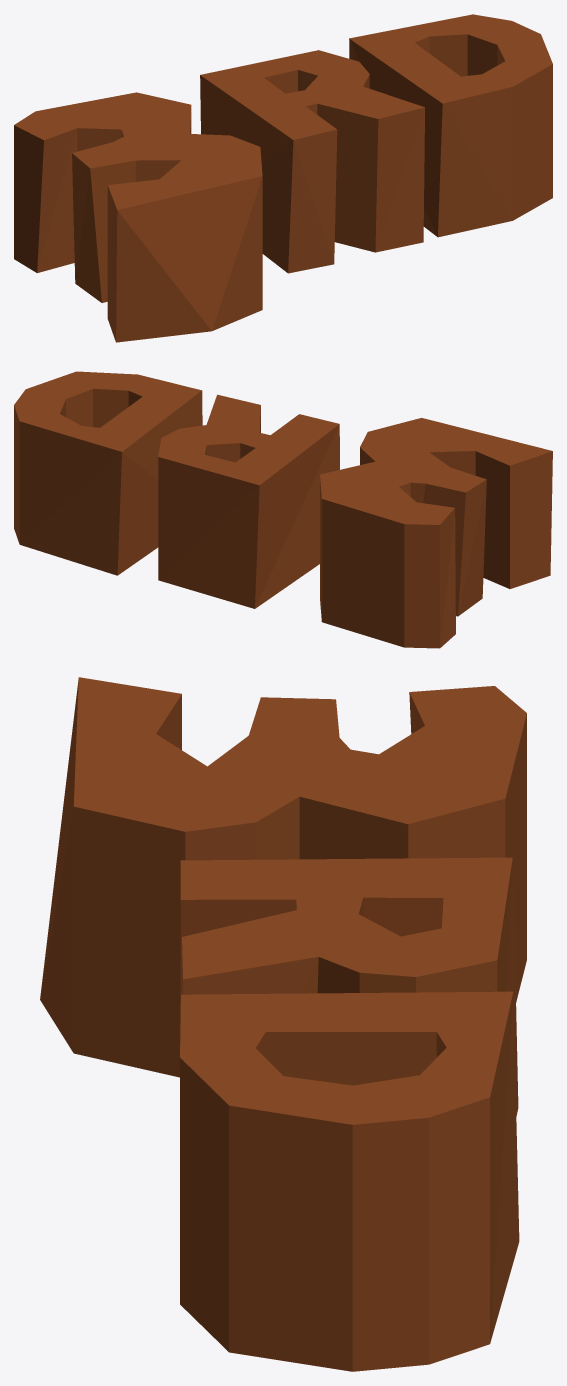
3 views of the same model, one above another, from view 1: azimuth 30°, elevation 25°; view 2: azimuth 150°, elevation 25°; view 3: azimuth 270°, elevation 25° (orthographic). The views are drawn at different scales.
Visible parts, largest first — view 1: Text_3rd; view 2: Text_3rd; view 3: Text_3rd.
Part boxes in pixels (x1,y1,x2,y2): Text_3rd: (14, 14, 552, 342); Text_3rd: (14, 371, 552, 648); Text_3rd: (40, 677, 526, 1371).
Size of the model in its own units: 146 by 37.5 by 67.02.
